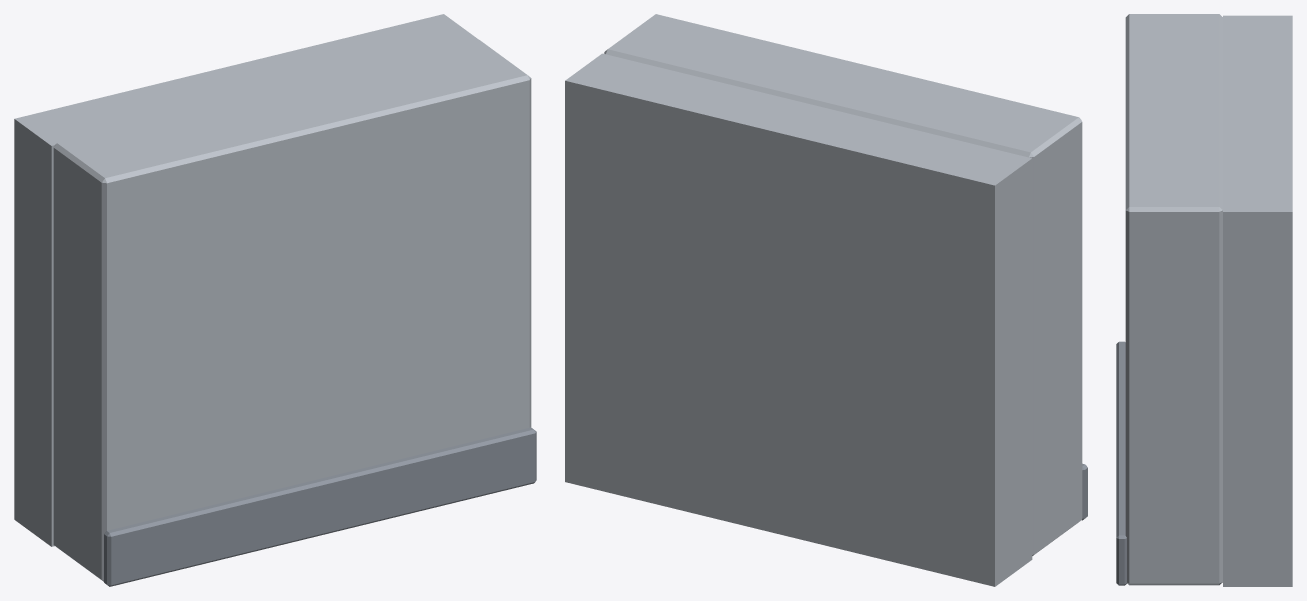
The model's file is soco_h45_0_5m.glb.
3 renders of one model, left to right at view 1: azimuth 30°, elevation 25°; view 2: azimuth 150°, elevation 25°; view 3: azimuth 270°, elevation 25°, orthographic. The views are drawn at different scales.
Visible parts, largest first — view 1: soco_h45_0_5m; view 2: soco_h45_0_5m; view 3: soco_h45_0_5m.
Boxes of the visible parts, left/top/right/bottom form: soco_h45_0_5m: left=14, top=14, right=536, bottom=586; soco_h45_0_5m: left=565, top=14, right=1087, bottom=586; soco_h45_0_5m: left=1116, top=14, right=1292, bottom=586.
Bounding box in the file's own units: 0.5 × 0.45 × 0.19.
Materials: 1 (1 with a texture image).
